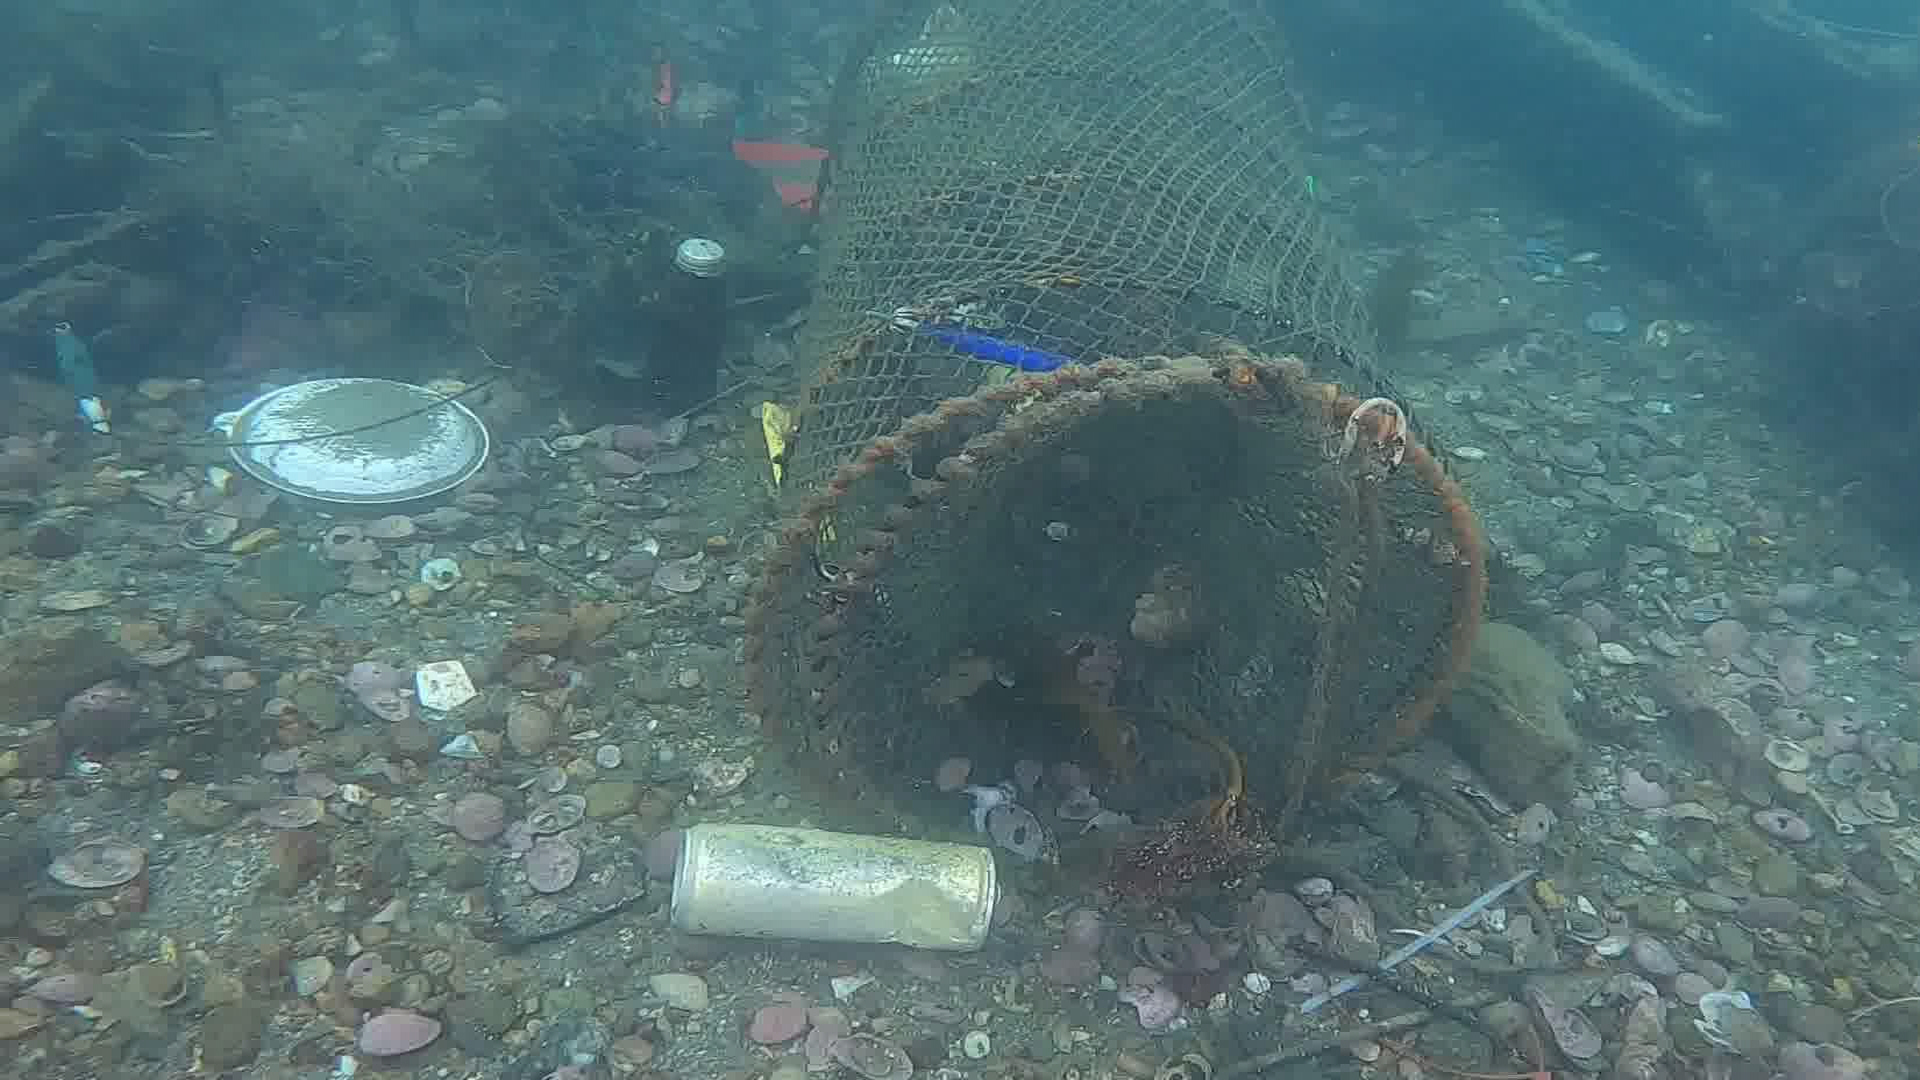spring fish trap: (740, 0, 1487, 869)
